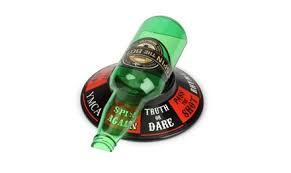beer: (92, 16, 188, 152)
